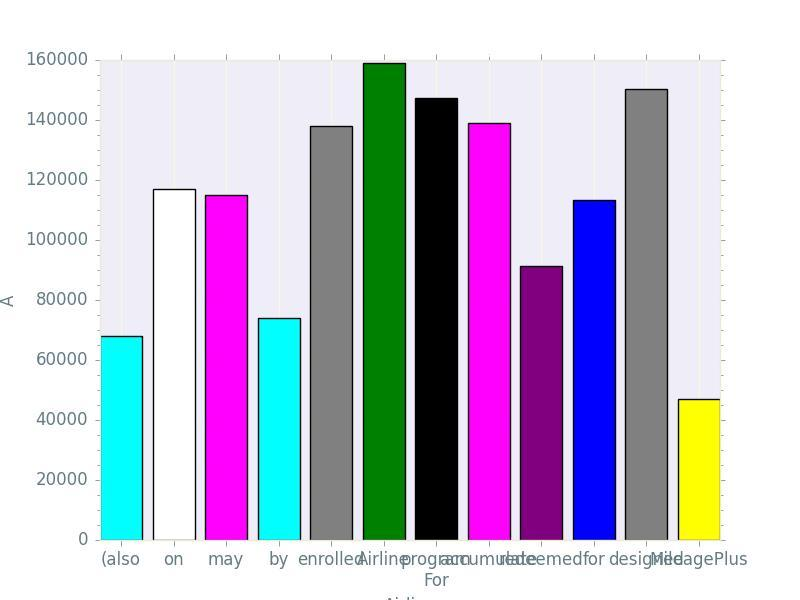axis: (0, 52, 88, 548)
rectangle: (362, 63, 404, 540), (626, 89, 668, 540), (416, 98, 458, 540), (468, 123, 510, 540), (310, 126, 352, 540), (152, 189, 194, 540), (205, 195, 247, 540), (573, 200, 615, 540), (520, 266, 562, 540), (258, 318, 300, 540), (100, 336, 142, 540), (678, 399, 720, 540)
